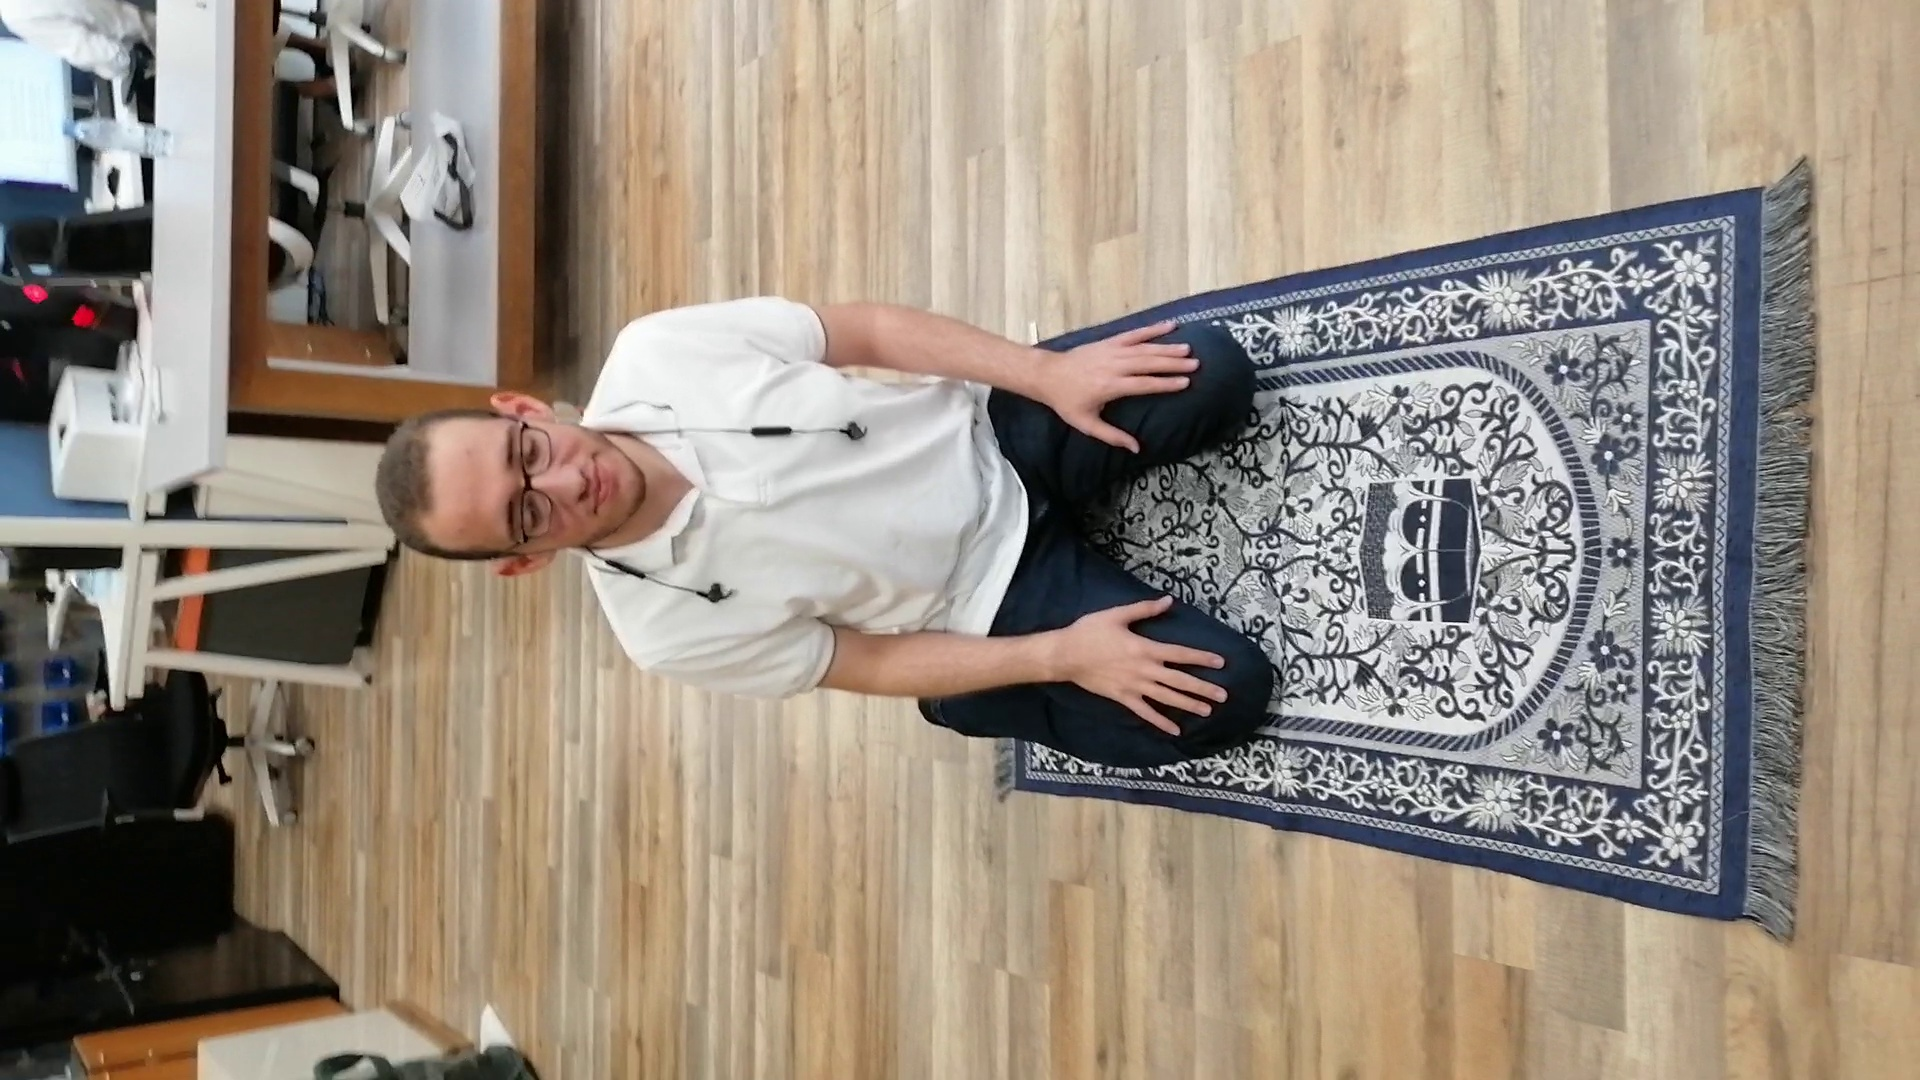sitting: (364, 290, 1278, 771)
